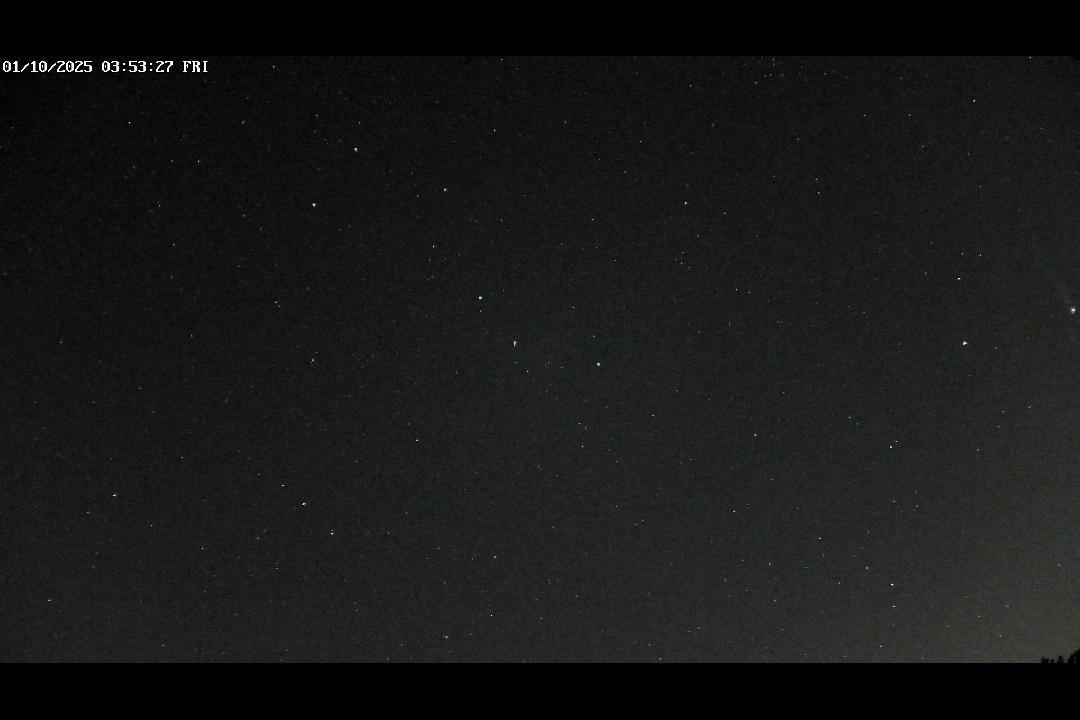Plane: (1046, 275, 1079, 324)
